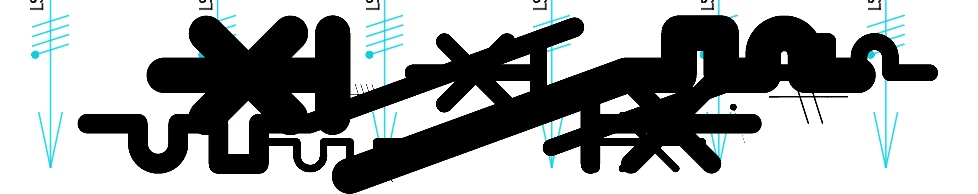interruptor_termomagnetico: (146, 15, 876, 194), (70, 10, 769, 181), (399, 28, 943, 161), (252, 67, 713, 180)
